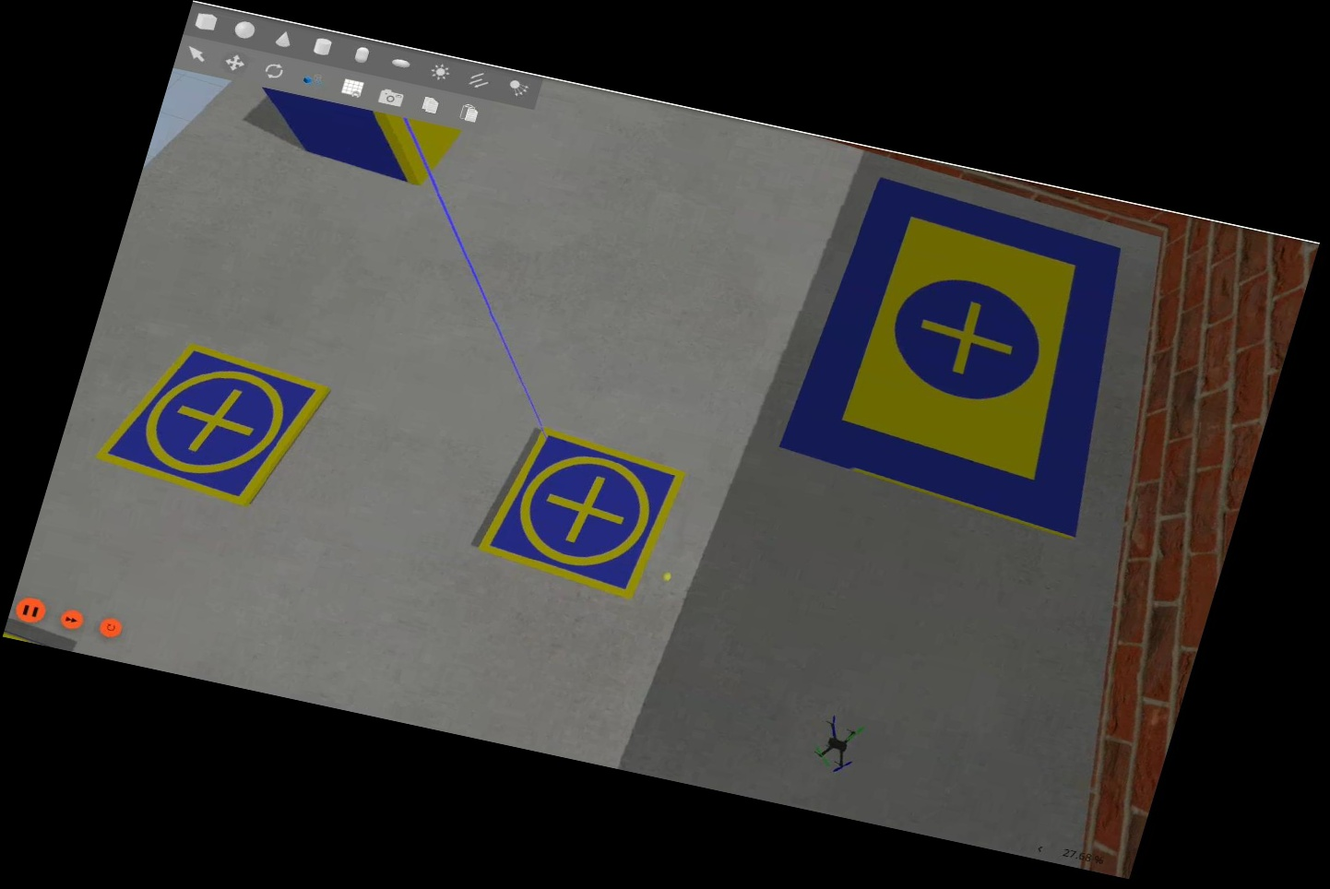large_base: (766, 173, 1170, 541)
small_base: (89, 329, 338, 521), (470, 419, 692, 608)
